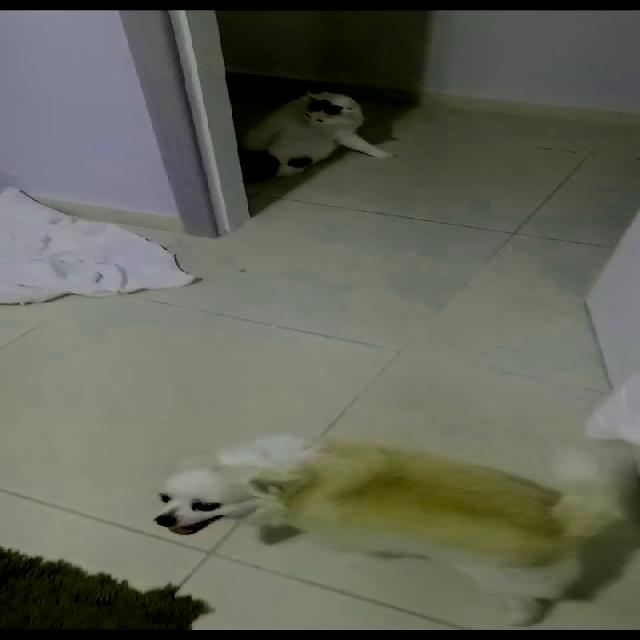Simba: (199, 74, 407, 172)
Theo: (121, 423, 639, 640)
